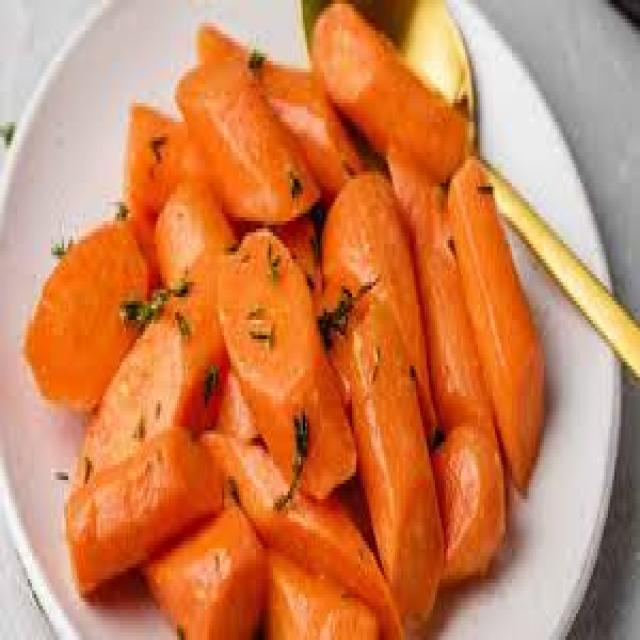wortel: (27, 23, 544, 630), (314, 173, 450, 600), (212, 224, 358, 495), (443, 154, 550, 486), (341, 307, 452, 611), (173, 43, 325, 223), (312, 8, 468, 176), (31, 223, 160, 402), (63, 429, 225, 561)
